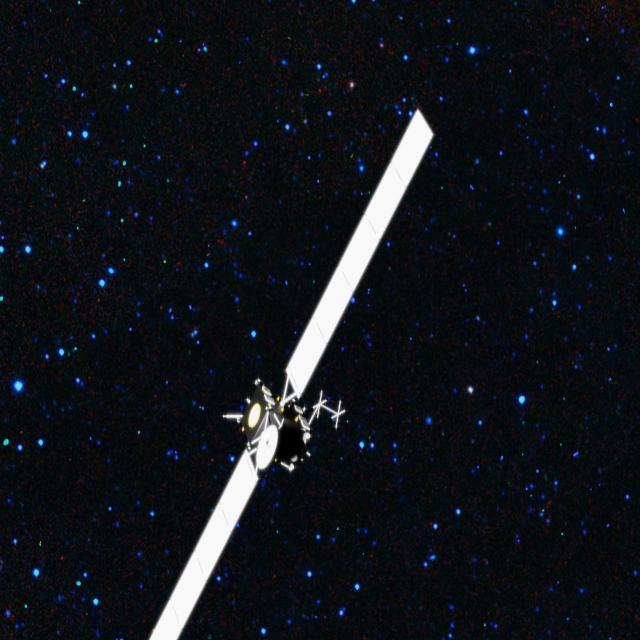satellite: (112, 96, 458, 640)
